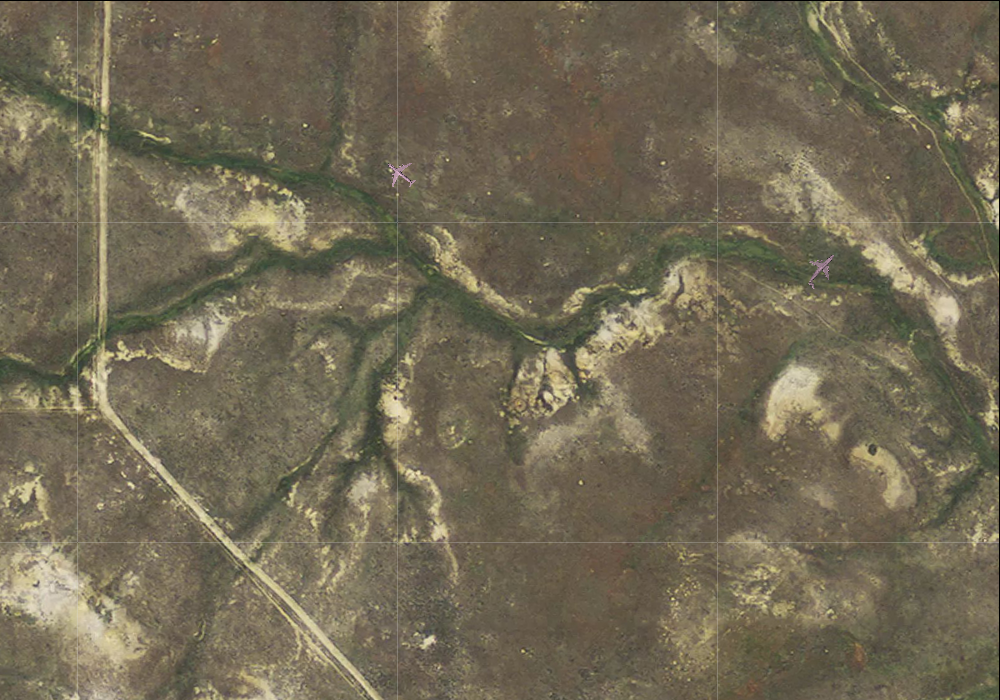plane: (796, 244, 847, 296), (378, 151, 422, 195)
